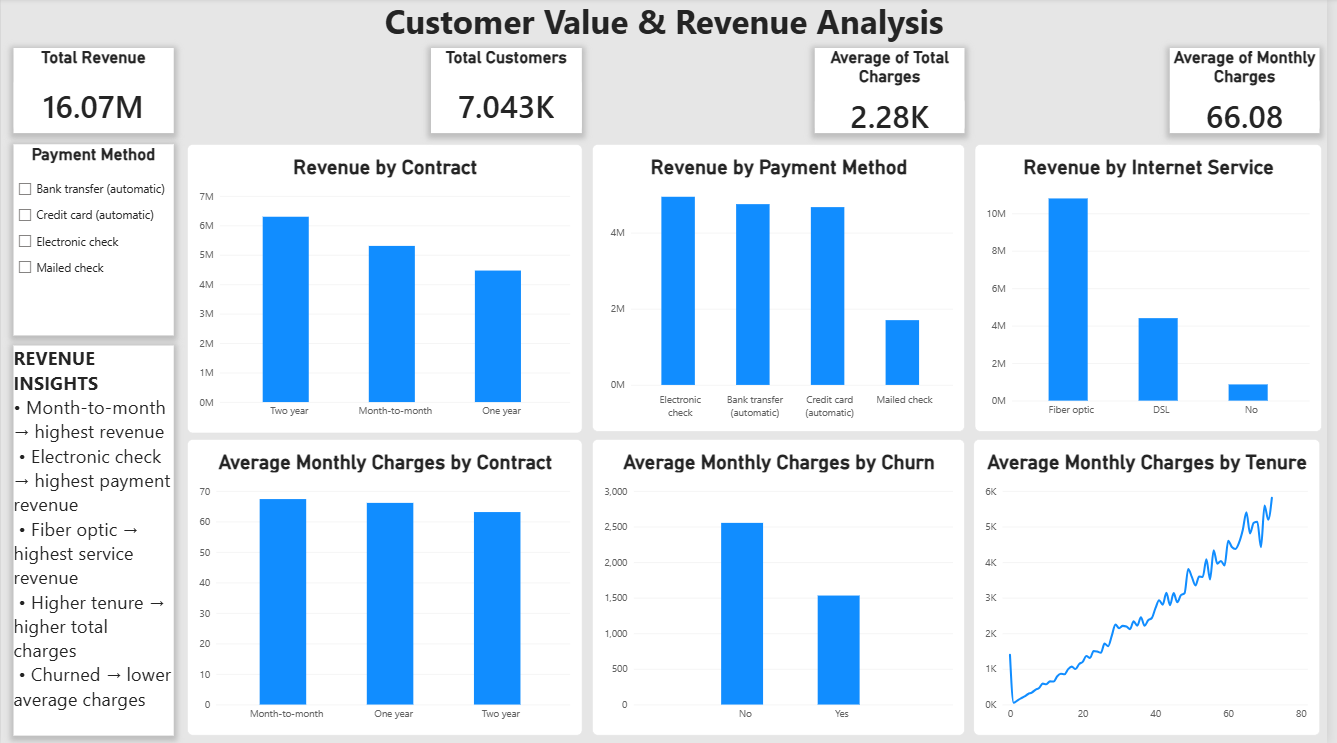

The page's visual inventory and layout, read from the dashboard file:
{"tool":"powerbi","page":{"name":"CUSTOMER VALUE & REVENUE ANALYSIS","canvas":[1920,1080],"ordinal":2},"visuals":[{"type":"textbox","box":[0,0,1920.1,68.8],"z":0},{"type":"clusteredColumnChart","title":"Revenue by Contract","fields":{"Category":["telco_final.Contract"],"Y":["telco_final.Total Revenue"]},"box":[269.6,211.7,571.9,418],"z":1000},{"type":"clusteredColumnChart","title":" Revenue by Payment Method","fields":{"Category":["telco_final.PaymentMethod"],"Y":["telco_final.Total Revenue"]},"box":[856,211.7,539.3,416.2],"z":2000},{"type":"clusteredColumnChart","title":"Average Monthly Charges by Contract","fields":{"Category":["telco_final.Contract"],"Y":["Avg(telco_final.MonthlyCharges)"]},"box":[269.6,638.8,571.9,428.9],"z":3000},{"type":"clusteredColumnChart","title":"Revenue by Internet Service","fields":{"Category":["telco_final.InternetService"],"Y":["telco_final.Total Revenue"]},"box":[1409.7,211.7,502,416],"z":4000},{"type":"clusteredColumnChart","title":"Average Monthly Charges by Churn","fields":{"Category":["telco_final.Churn"],"Y":["Avg(telco_final.TotalCharges)"]},"box":[856,638.8,539.3,428.9],"z":5000},{"type":"lineChart","title":"Average Monthly Charges by Tenure","fields":{"Category":["telco_final.tenure"],"Y":["Avg(telco_final.TotalCharges)"]},"box":[1407.9,638.8,501.3,428.9],"z":6000},{"type":"cardVisual","title":"Total Revenue","fields":{"Data":["telco_final.Total Revenue"]},"box":[18.1,72.4,231.6,123.1],"z":7000},{"type":"cardVisual","title":"Total Customers","fields":{"Data":["telco_final.Total Customers"]},"box":[622.5,72.4,218,123],"z":8000},{"type":"cardVisual","title":"Average of Monthly Charges","fields":{"Data":["Avg(telco_final.MonthlyCharges)"]},"box":[1692,72.4,217.2,123.1],"z":9000},{"type":"cardVisual","title":"Average of Total Charges","fields":{"Data":["Avg(telco_final.TotalCharges)"]},"box":[1178.1,72.4,217.2,123.1],"z":10000},{"type":"slicer","title":"Payment Method","fields":{"Values":["telco_final.PaymentMethod"]},"box":[18.1,211.7,231.6,276.9],"z":11000},{"type":"textbox","box":[18.1,503.1,231.6,564.6],"z":12000}]}

Visuals, with their boxes in screenshot pixels (x1, y1, x2, y2), scaled from the page's 1920x1080 canvas onto the 1337x743 screenshot:
textbox: (x1=0, y1=0, x2=1336, y2=47)
"Revenue by Contract" clusteredColumnChart: (x1=188, y1=146, x2=586, y2=433)
" Revenue by Payment Method" clusteredColumnChart: (x1=596, y1=146, x2=972, y2=432)
"Average Monthly Charges by Contract" clusteredColumnChart: (x1=188, y1=439, x2=586, y2=735)
"Revenue by Internet Service" clusteredColumnChart: (x1=982, y1=146, x2=1331, y2=432)
"Average Monthly Charges by Churn" clusteredColumnChart: (x1=596, y1=439, x2=972, y2=735)
"Average Monthly Charges by Tenure" lineChart: (x1=980, y1=439, x2=1329, y2=735)
"Total Revenue" cardVisual: (x1=13, y1=50, x2=174, y2=134)
"Total Customers" cardVisual: (x1=433, y1=50, x2=585, y2=134)
"Average of Monthly Charges" cardVisual: (x1=1178, y1=50, x2=1329, y2=134)
"Average of Total Charges" cardVisual: (x1=820, y1=50, x2=972, y2=134)
"Payment Method" slicer: (x1=13, y1=146, x2=174, y2=336)
textbox: (x1=13, y1=346, x2=174, y2=735)
